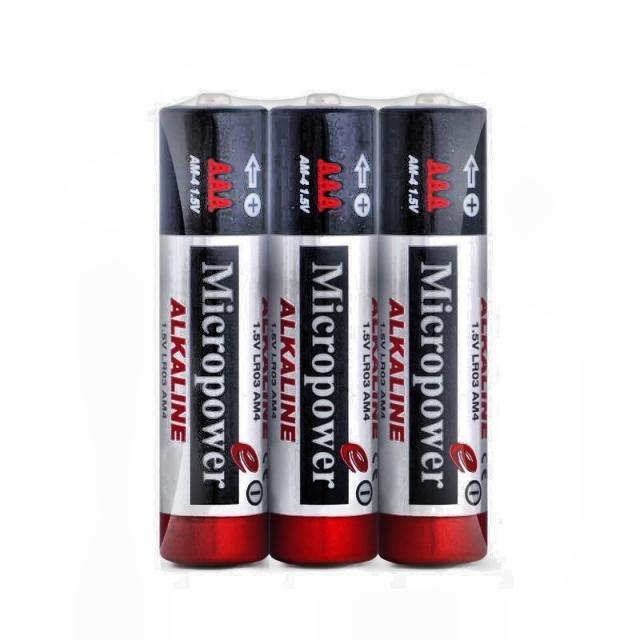Non-Valuable Waste - Batteries: (160, 95, 269, 564), (379, 95, 488, 564), (270, 95, 378, 563)
